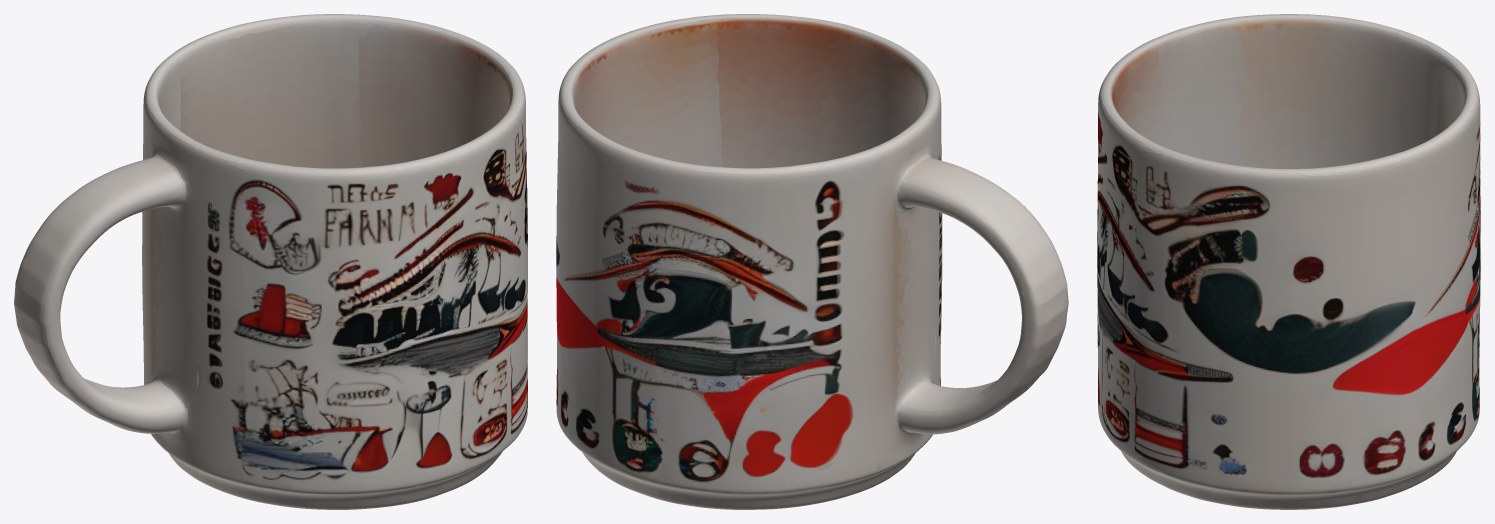
Rendered from iter_3.glb.
3 views of the same model, side by side, from view 1: azimuth 30°, elevation 25°; view 2: azimuth 150°, elevation 25°; view 3: azimuth 270°, elevation 25° (orthographic).
Parts seen in each view (by area): view 1: textured_mesh; view 2: textured_mesh; view 3: textured_mesh.
Part boxes in pixels (left/top/right/bottom): textured_mesh: left=14, top=14, right=527, bottom=509; textured_mesh: left=556, top=14, right=1068, bottom=509; textured_mesh: left=1097, top=14, right=1480, bottom=509.
Bounding box in the file's own units: 1.97 × 1.39 × 1.38.
1 material, 1 textured.
